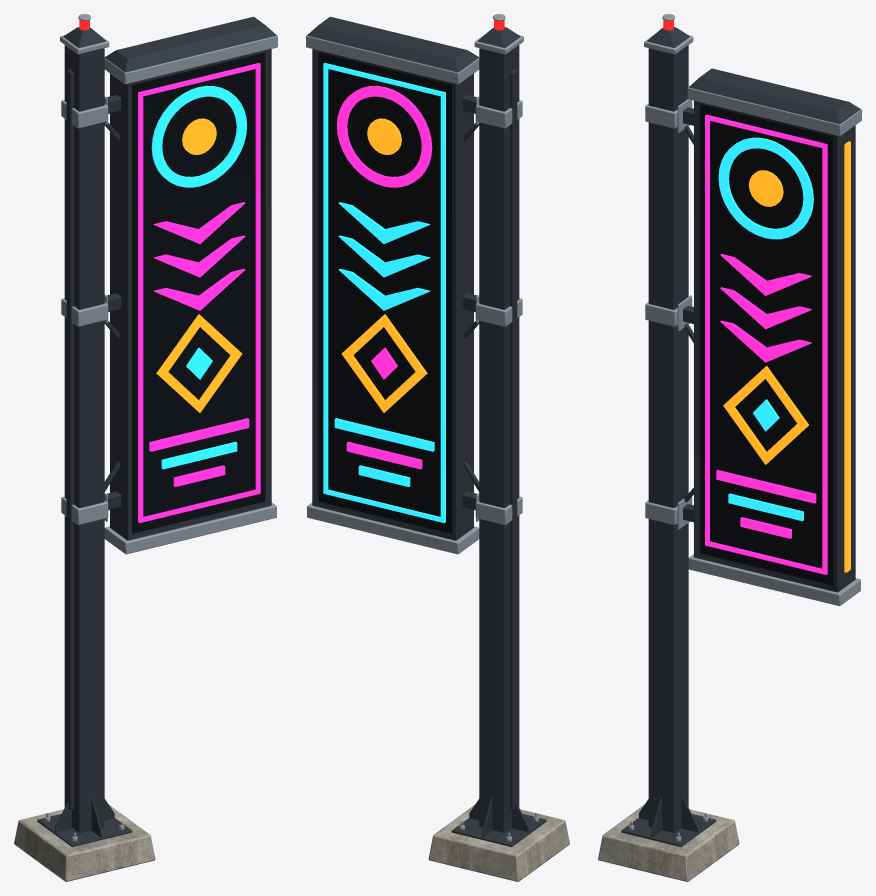
File: destructible_citysign_intact.glb
3 views of the same model, side by side, from view 1: azimuth 30°, elevation 25°; view 2: azimuth 150°, elevation 25°; view 3: azimuth 330°, elevation 25° (orthographic).
Parts seen in each view (by area): view 1: CitySign_Body; view 2: CitySign_Body; view 3: CitySign_Body.
Boxes of the visible parts, box(x1,y1,x2,y2) form: CitySign_Body: box(14, 14, 277, 881); CitySign_Body: box(306, 14, 569, 881); CitySign_Body: box(598, 14, 861, 881).
Bounding box in the file's own units: 3.01 × 10.55 × 1.19.
8 materials, 1 textured.
